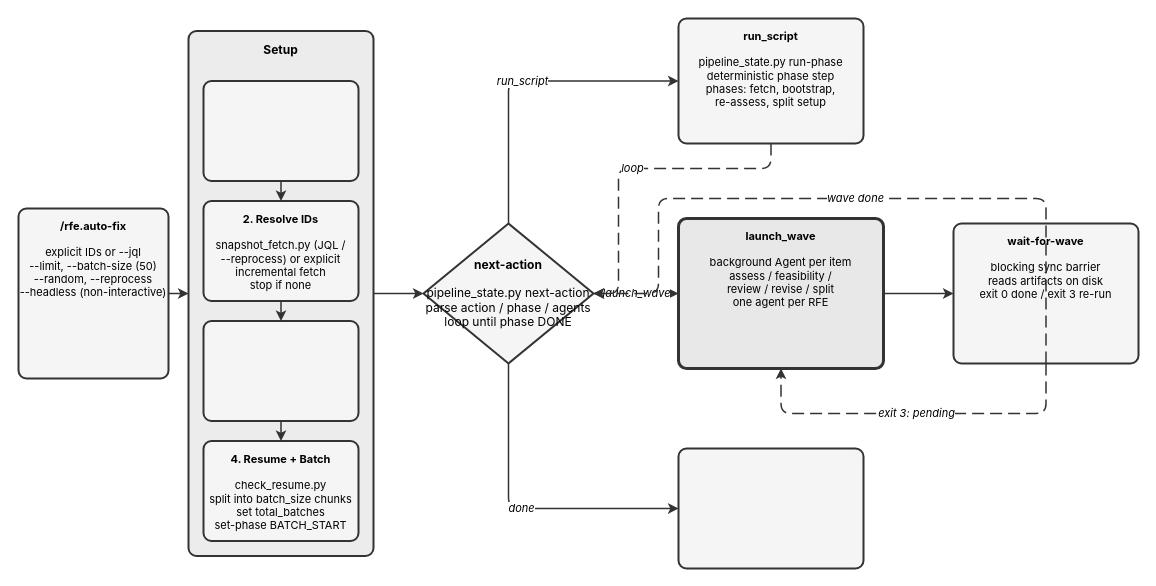
The diagram is 1156 pixels wide and 586 high, and some of its shapes have lost their labels. Here are the shapes that lost their labels. From the top down, the centre of each, then its label:
(280,131): 1. Init pipeline_state.py init --batch-size / --headless --announce-complete
(280,371): 3. Bootstrap bootstrap-assess-rfe.sh retry once on failure else stop
(770,508): Teardown (DONE) batch_summary.py --counts-only per-phase counts
